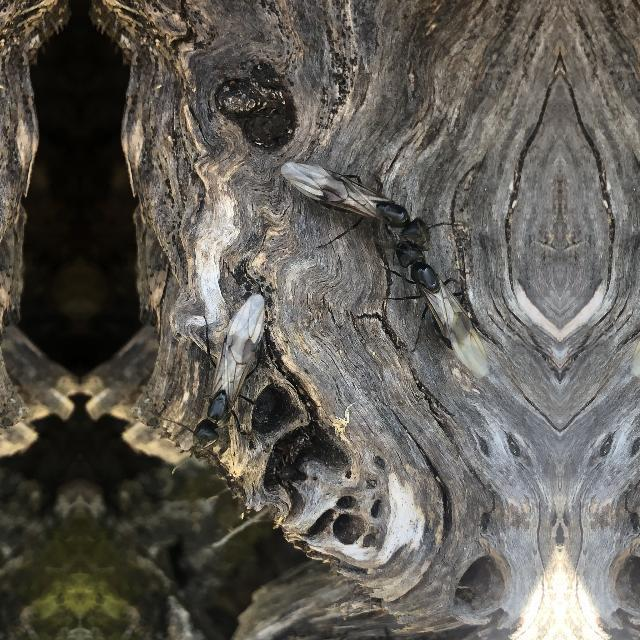Camponotus: (170, 286, 284, 474), (264, 161, 448, 257), (386, 242, 496, 384)
